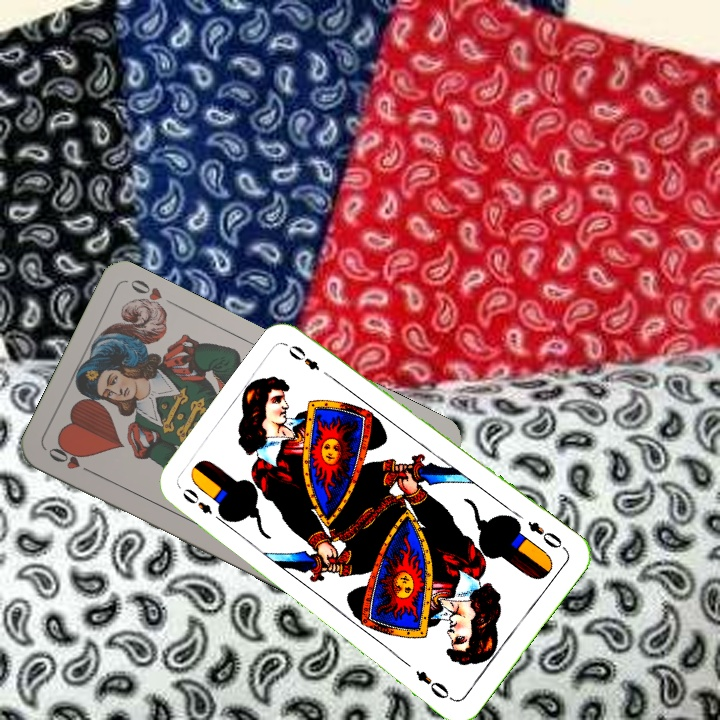EO: (523, 517, 569, 553), (178, 484, 215, 518)
HO: (44, 442, 98, 478)
